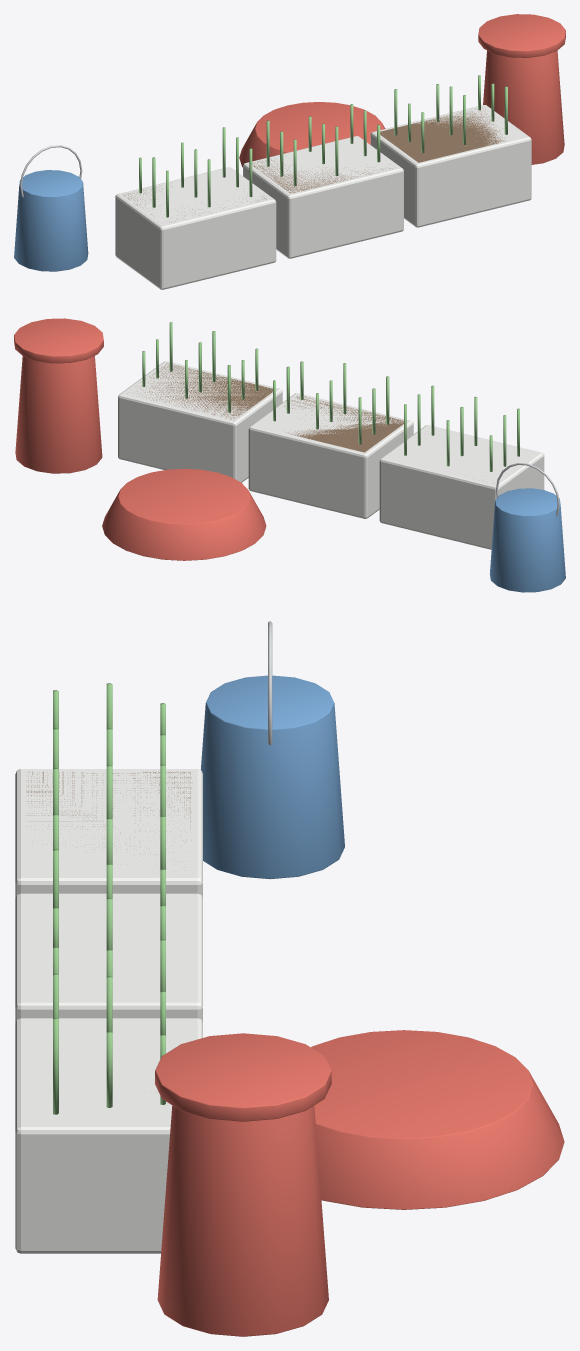
File: v2_yard_garden.fbx
3 renders of one model, top to bottom at view 1: azimuth 30°, elevation 25°; view 2: azimuth 150°, elevation 25°; view 3: azimuth 270°, elevation 25°, orthographic. The views are drawn at different scales.
Parts seen in each view (by area): view 1: FoamBox, FoamBox.001, FoamBox.002, Bucket, Stool, Basin, Soil.002, Stool2, Soil.001; view 2: FoamBox, FoamBox.002, FoamBox.001, Basin, Stool, Bucket, Stool2, Soil.002, Soil.001; view 3: Basin, FoamBox.002, Stool, Bucket, FoamBox.001, FoamBox, Stool2.
Part boxes in pixels (x1,y1,x2,y2): FoamBox: (115,167,276,289); FoamBox.001: (243,136,403,258); FoamBox.002: (370,105,531,227); Bucket: (14,170,88,271); Stool: (483,50,564,164); Basin: (239,102,385,167); Soil.002: (380,109,505,162); Stool2: (478,14,565,57); Soil.001: (252,159,392,193); FoamBox: (379,425,544,549); FoamBox.002: (118,361,282,482); FoamBox.001: (248,393,413,518); Basin: (102,468,266,560); Stool: (15,355,102,473); Bucket: (490,488,565,592); Stool2: (14,318,103,363); Soil.002: (127,363,272,420); Soil.001: (284,396,403,452); Basin: (311,1030,564,1209); FoamBox.002: (15,1018,202,1253); Stool: (157,1105,328,1336); Bucket: (201,675,344,879); FoamBox.001: (15,893,202,1022); FoamBox: (15,769,202,898); Stool2: (155,1033,331,1121).
Size of the model in its own units: 2.3 by 0.475 by 1.02.
